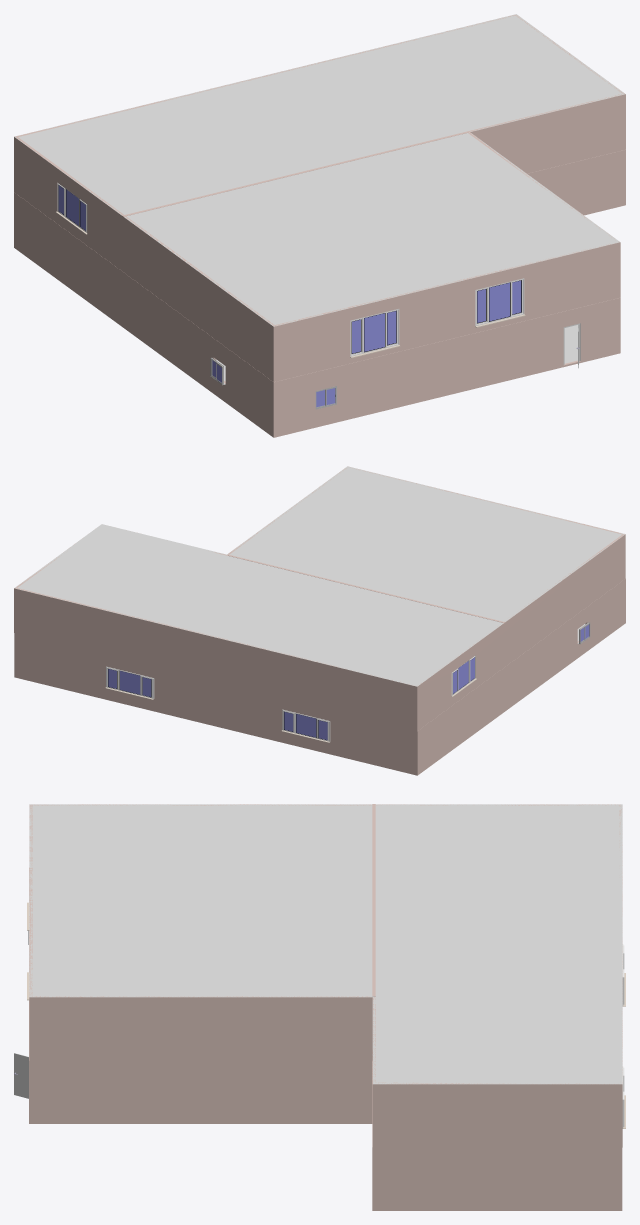
Rendered from batiment 1.fbx.
3 views of the same model, one above another, from view 1: azimuth 30°, elevation 25°; view 2: azimuth 150°, elevation 25°; view 3: azimuth 270°, elevation 25° (orthographic). The views are drawn at different scales.
Visible parts, largest first — view 1: Ceiling.001; view 2: Ceiling.001; view 3: Ceiling.001.
Part boxes in pixels (x1=…): Ceiling.001: x1=14, y1=14, x2=625, y2=437; Ceiling.001: x1=14, y1=466, x2=625, y2=775; Ceiling.001: x1=14, y1=804, x2=625, y2=1210.
Bounding box in the file's own units: 2917 × 614 × 2676.
